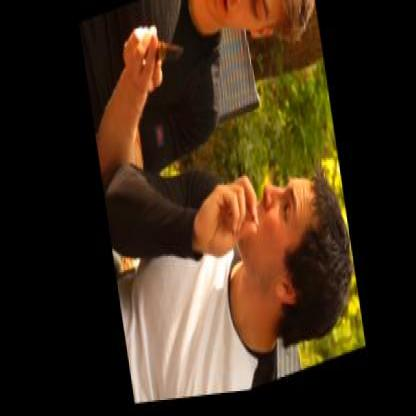knife: (124, 7, 190, 96)
